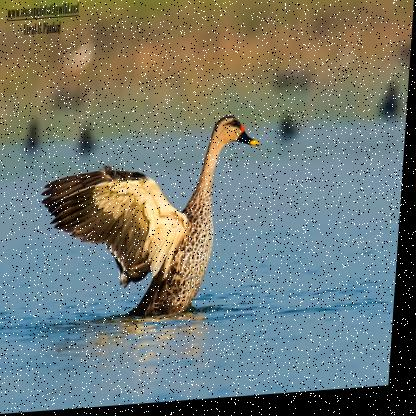Burung: (36, 117, 263, 326)
